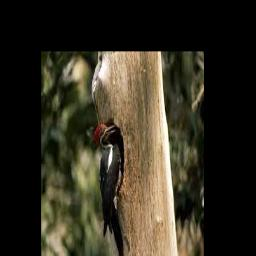Woodpecker: (94, 123, 125, 256)
